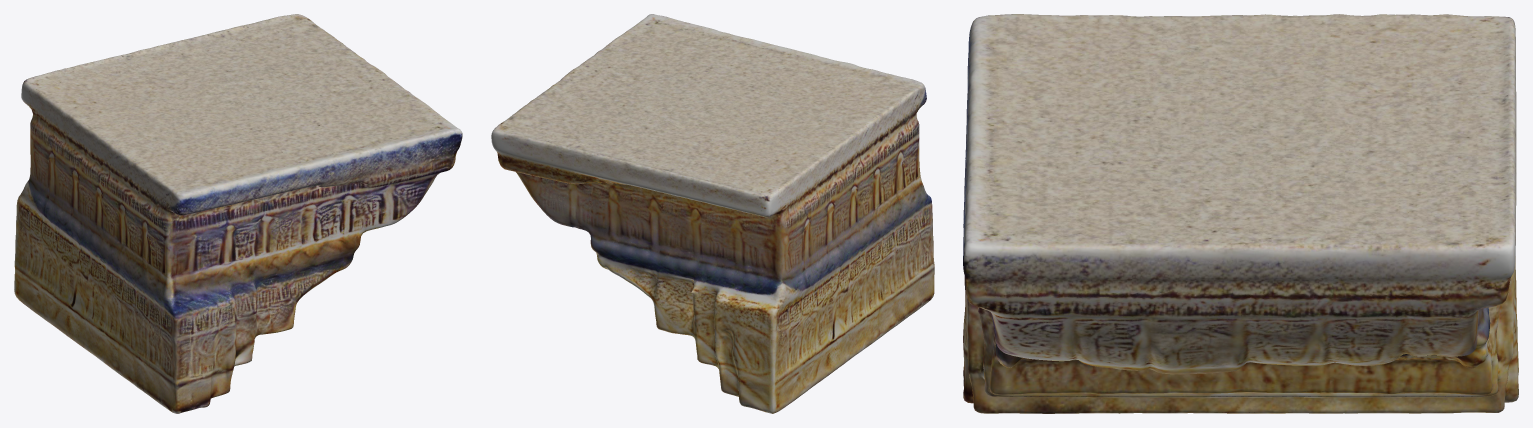
The model's file is 94f19fe5340a_An_egyptian_temple_.fbx.
The picture shows the model from 3 angles, left to right: view 1: azimuth 30°, elevation 25°; view 2: azimuth 150°, elevation 25°; view 3: azimuth 270°, elevation 25°; orthographic projection. The views are drawn at different scales.
Parts seen in each view (by area): view 1: high_poly; view 2: high_poly; view 3: high_poly.
Boxes of the visible parts, x1,y1,x2,y2 form: high_poly: (14, 14, 462, 413); high_poly: (491, 14, 934, 413); high_poly: (963, 14, 1518, 413).
Size of the model in its own units: 100 by 72.18 by 97.81.
